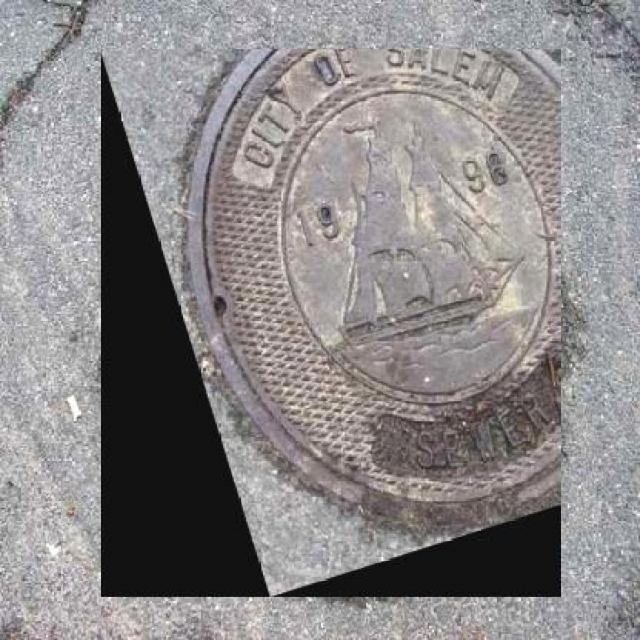Manhole: (100, 50, 560, 598)
